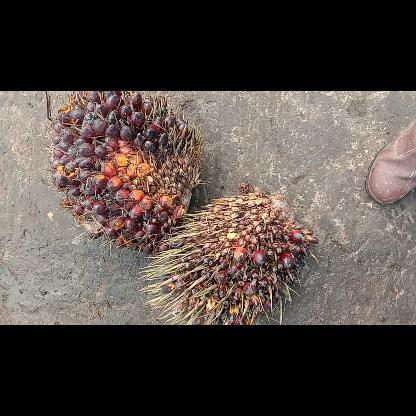Kurang masak: (43, 90, 201, 254)
TBS abnormal: (137, 186, 317, 324)
